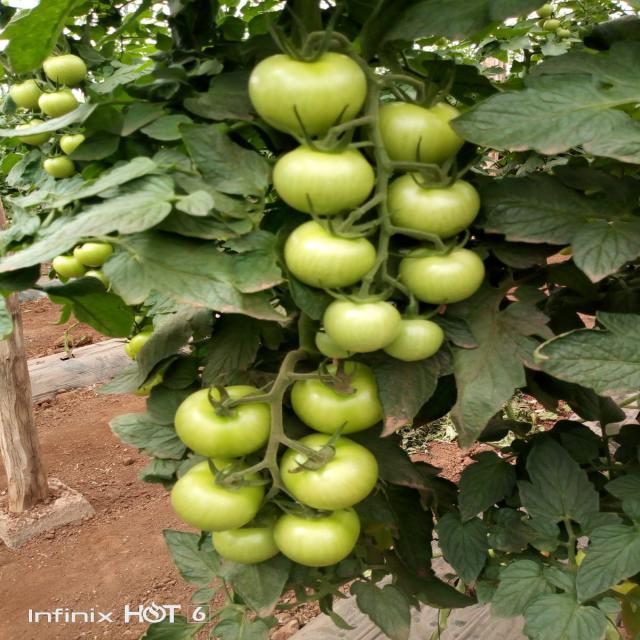Unripe Tomato: (254, 36, 368, 130), (258, 144, 378, 222), (278, 430, 382, 514), (286, 366, 390, 434), (181, 376, 275, 448), (398, 244, 502, 306), (384, 100, 482, 162), (392, 176, 483, 240), (170, 468, 270, 524), (272, 512, 368, 568), (288, 228, 382, 284), (334, 300, 406, 366)
